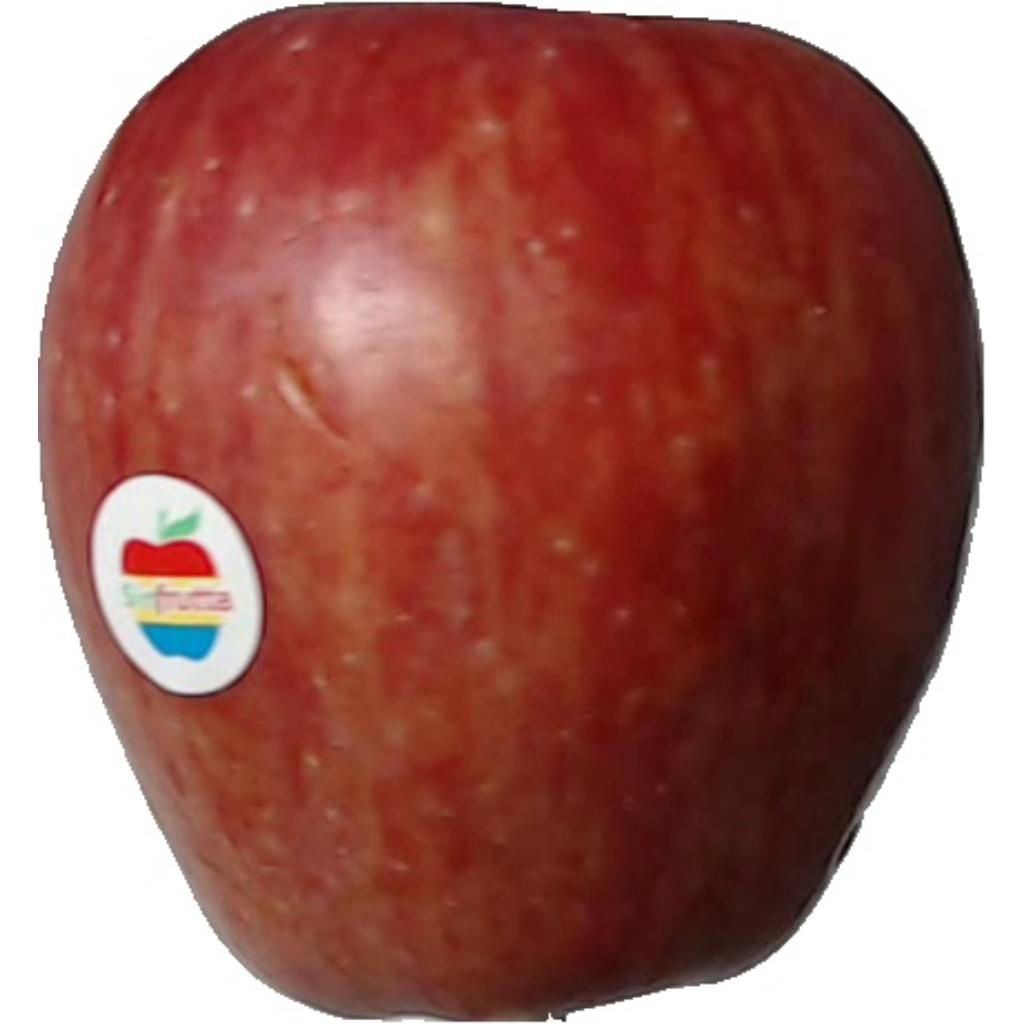apple: (38, 2, 986, 1024)
